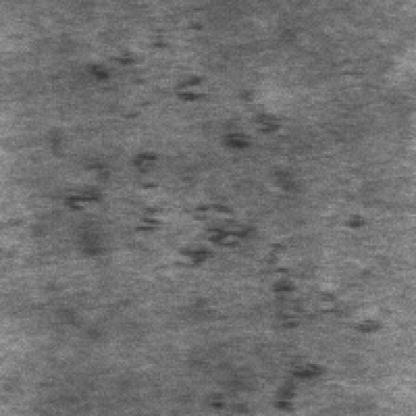rolled-in_scale: (71, 156, 322, 408), (81, 35, 273, 148)
